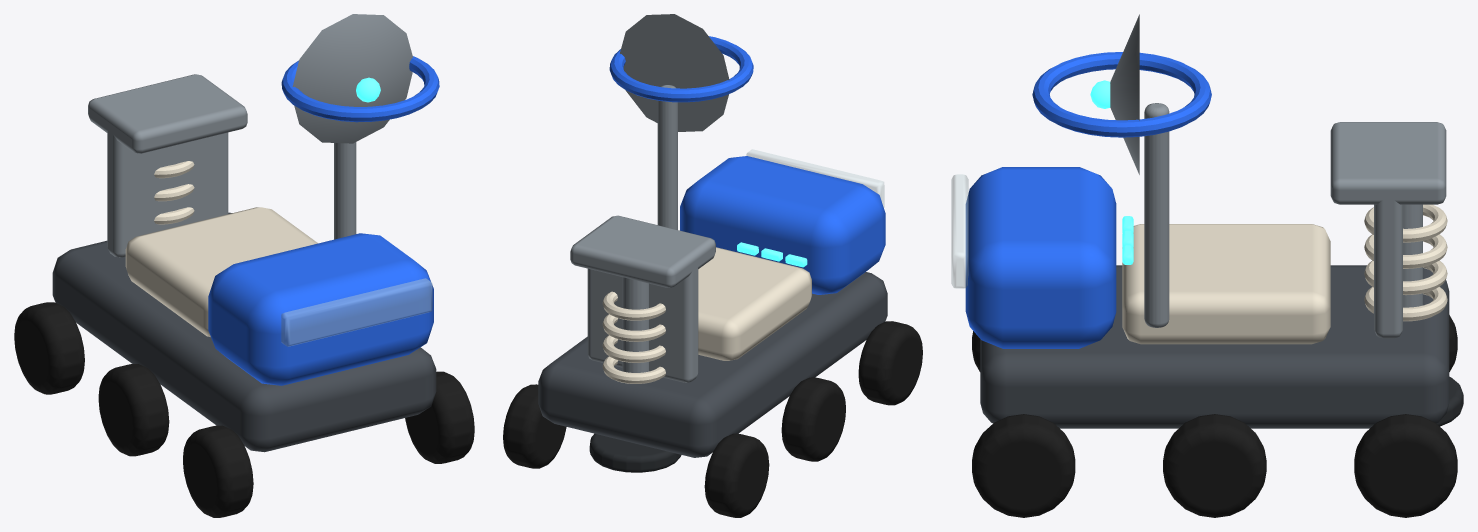
File: geological_surveyor.glb
The picture shows the model from 3 angles, left to right: view 1: azimuth 30°, elevation 25°; view 2: azimuth 150°, elevation 25°; view 3: azimuth 270°, elevation 25°; orthographic projection. The views are drawn at different scales.
Visible parts, largest first — view 1: geological_surveyor__M_SmokePlastic, geological_surveyor__M_Team, geological_surveyor__M_SpringSteel, geological_surveyor__M_Licorice, geological_surveyor__M_CreamPlastic, spinner__M_SpringSteel, geological_surveyor__M_FrostGlass, spinner__M_Team, piston__M_CreamPlastic; view 2: geological_surveyor__M_SmokePlastic, geological_surveyor__M_Team, geological_surveyor__M_Licorice, geological_surveyor__M_SpringSteel, geological_surveyor__M_CreamPlastic, spinner__M_SpringSteel, piston__M_CreamPlastic, spinner__M_Team, piston__M_Dark, piston__M_SpringSteel, geological_surveyor__M_FrostGlass, geological_surveyor__M_E_Cyan; view 3: geological_surveyor__M_SmokePlastic, geological_surveyor__M_Licorice, geological_surveyor__M_Team, geological_surveyor__M_CreamPlastic, geological_surveyor__M_SpringSteel, spinner__M_Team, piston__M_CreamPlastic, spinner__M_SpringSteel, geological_surveyor__M_FrostGlass, piston__M_SpringSteel, piston__M_Dark, geological_surveyor__M_E_Cyan.
Part boxes in pixels (x1,y1,x2,y2): geological_surveyor__M_SmokePlastic: [52, 212, 436, 452]; geological_surveyor__M_Team: [208, 233, 433, 385]; geological_surveyor__M_SpringSteel: [88, 74, 356, 257]; geological_surveyor__M_Licorice: [14, 302, 474, 517]; geological_surveyor__M_CreamPlastic: [125, 207, 317, 336]; spinner__M_SpringSteel: [292, 14, 412, 143]; geological_surveyor__M_FrostGlass: [281, 278, 432, 346]; spinner__M_Team: [281, 56, 439, 122]; piston__M_CreamPlastic: [154, 161, 194, 224]; geological_surveyor__M_SmokePlastic: [538, 272, 887, 457]; geological_surveyor__M_Team: [680, 156, 885, 294]; geological_surveyor__M_Licorice: [503, 321, 922, 517]; geological_surveyor__M_SpringSteel: [570, 85, 715, 382]; geological_surveyor__M_CreamPlastic: [698, 247, 811, 360]; spinner__M_SpringSteel: [620, 14, 729, 131]; piston__M_CreamPlastic: [602, 291, 665, 383]; spinner__M_Team: [609, 36, 753, 102]; piston__M_Dark: [589, 433, 681, 472]; piston__M_SpringSteel: [622, 277, 649, 372]; geological_surveyor__M_FrostGlass: [746, 149, 884, 206]; geological_surveyor__M_E_Cyan: [737, 242, 807, 267]; geological_surveyor__M_SmokePlastic: [980, 265, 1449, 428]; geological_surveyor__M_Licorice: [972, 315, 1457, 517]; geological_surveyor__M_Team: [965, 167, 1116, 348]; geological_surveyor__M_CreamPlastic: [1122, 224, 1330, 344]; geological_surveyor__M_SpringSteel: [1144, 103, 1446, 338]; spinner__M_Team: [1032, 52, 1211, 137]; piston__M_CreamPlastic: [1364, 204, 1447, 321]; spinner__M_SpringSteel: [1110, 14, 1139, 174]; geological_surveyor__M_FrostGlass: [951, 174, 968, 288]; piston__M_SpringSteel: [1403, 204, 1422, 307]; piston__M_Dark: [1436, 376, 1463, 426]; geological_surveyor__M_E_Cyan: [1122, 216, 1133, 264].
Bounding box in the file's own units: 0.615 × 0.8994 × 0.8847.
